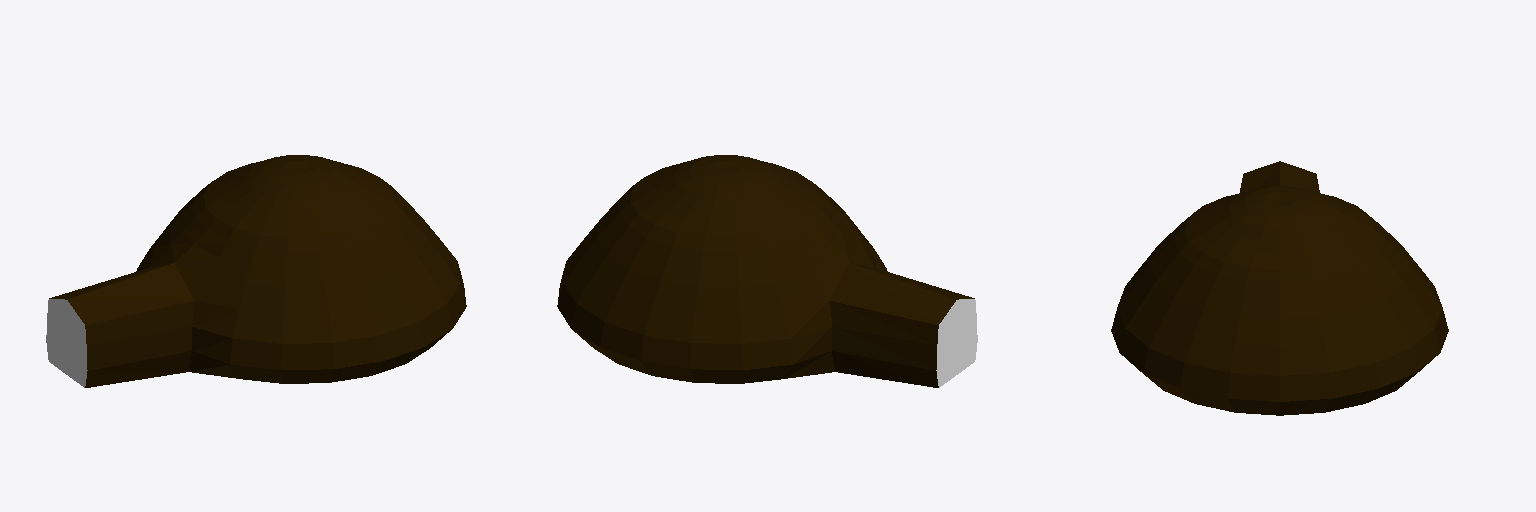
The model's file is cave.obj.
The picture shows the model from 3 angles: view 1: azimuth 30°, elevation 25°; view 2: azimuth 150°, elevation 25°; view 3: azimuth 270°, elevation 25°; orthographic projection.
Parts seen in each view (by area): view 1: pSphere1; view 2: pSphere1; view 3: pSphere1.
Part boxes in pixels (bbox=[...]): pSphere1: bbox=[46, 155, 466, 387]; pSphere1: bbox=[557, 155, 977, 387]; pSphere1: bbox=[1111, 161, 1448, 415].
Bounding box in the file's own units: 8.45 × 3.33 × 6.53.